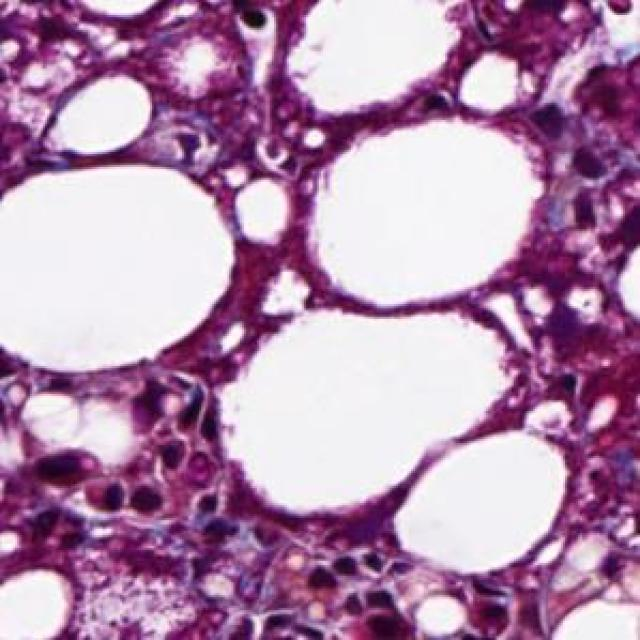inflammation: (13, 438, 214, 558), (524, 92, 640, 244), (295, 535, 411, 640)
